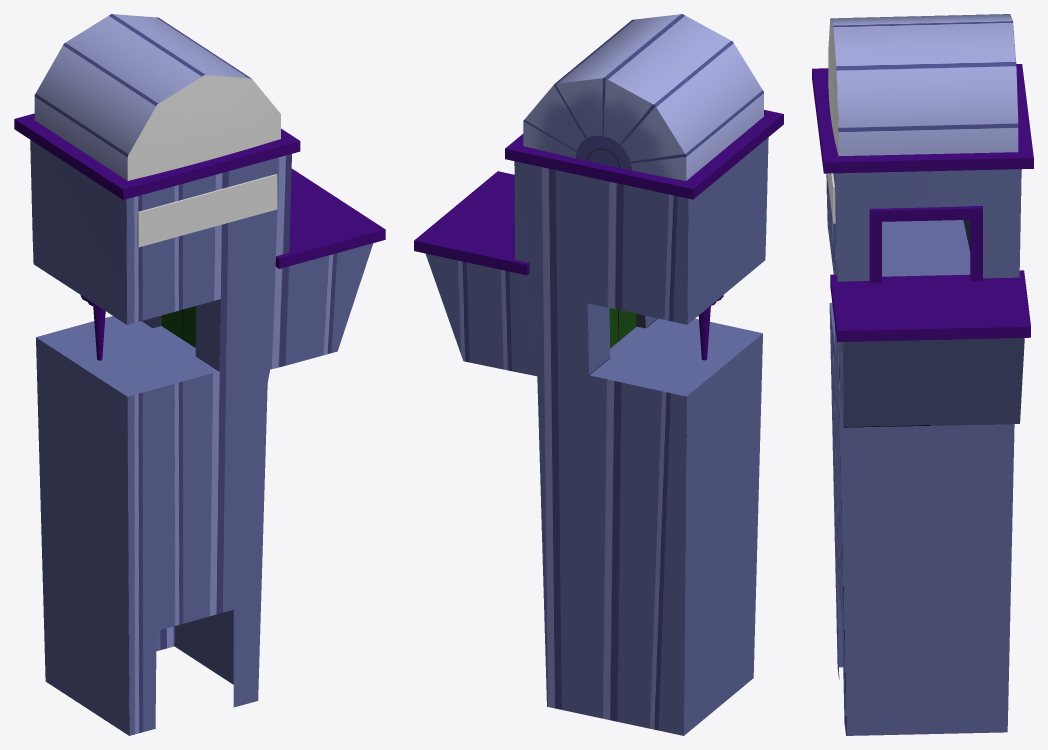
The model's file is towerFBX 2.fbx.
3 renders of one model, left to right at view 1: azimuth 30°, elevation 25°; view 2: azimuth 150°, elevation 25°; view 3: azimuth 270°, elevation 25°, orthographic. The views are drawn at different scales.
Visible parts, largest first — view 1: Cylinder001; view 2: Cylinder001; view 3: Cylinder001.
Part boxes in pixels (box(x1,y1,x2,y2)): Cylinder001: box(14, 14, 385, 735); Cylinder001: box(414, 14, 783, 735); Cylinder001: box(812, 14, 1033, 735).
Bounding box in the file's own units: 2137 × 4651 × 1375.
